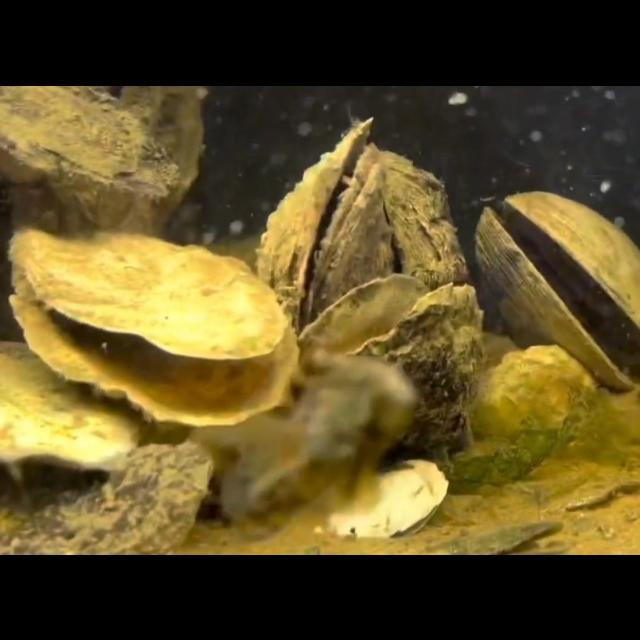Oyster-Closed: (1, 436, 215, 554), (440, 342, 598, 493), (1, 85, 180, 199), (0, 339, 144, 471), (376, 149, 466, 289)
Oyster-Open: (8, 224, 302, 426), (294, 272, 486, 452), (473, 190, 639, 392), (255, 114, 393, 324), (50, 85, 204, 251), (332, 456, 448, 540), (446, 518, 570, 554)
